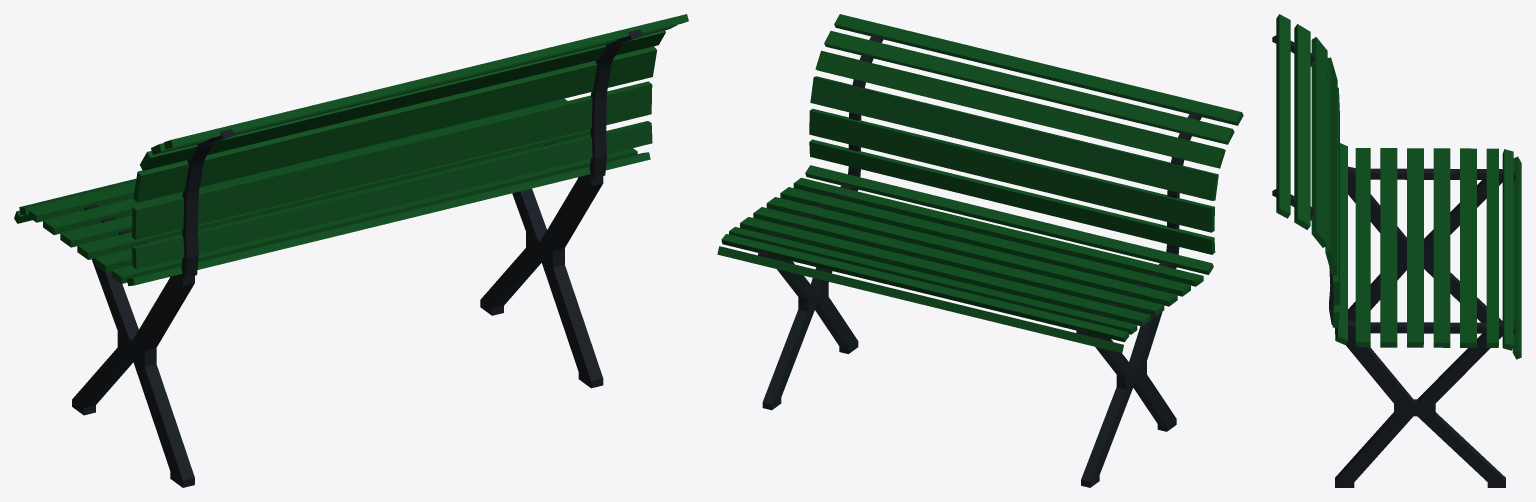
Rendered from objBench.fbx.
The picture shows the model from 3 angles, left to right: view 1: azimuth 30°, elevation 25°; view 2: azimuth 150°, elevation 25°; view 3: azimuth 270°, elevation 25°; orthographic projection. The views are drawn at different scales.
Visible parts, largest first — view 1: Bench; view 2: Bench; view 3: Bench.
Boxes of the visible parts, x1,y1,x2,y2 form: Bench: [14, 14, 688, 487]; Bench: [717, 14, 1243, 487]; Bench: [1272, 14, 1521, 487].
Size of the model in its own units: 395 by 215 by 283.
